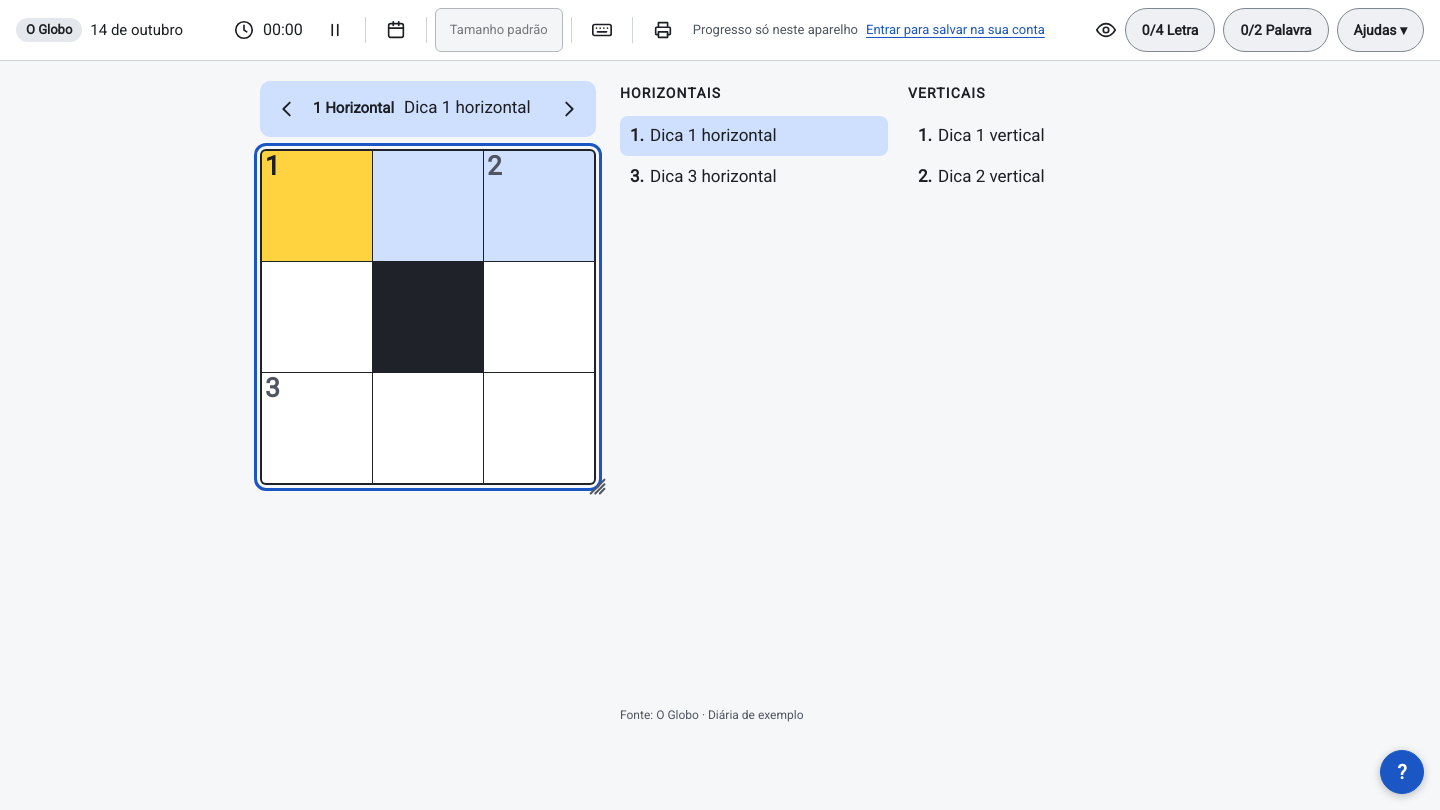
Test: rascunho no jogo (feature 043) › confirmar vira letra normal; reiniciar e concluir não deixam chave de rascunho
The image size is (1440, 810).
Expected: the table is shown, [260,149,596,485]
Click the button "Ajudas ▾" at (1380, 30), box [1337,8,1424,52]
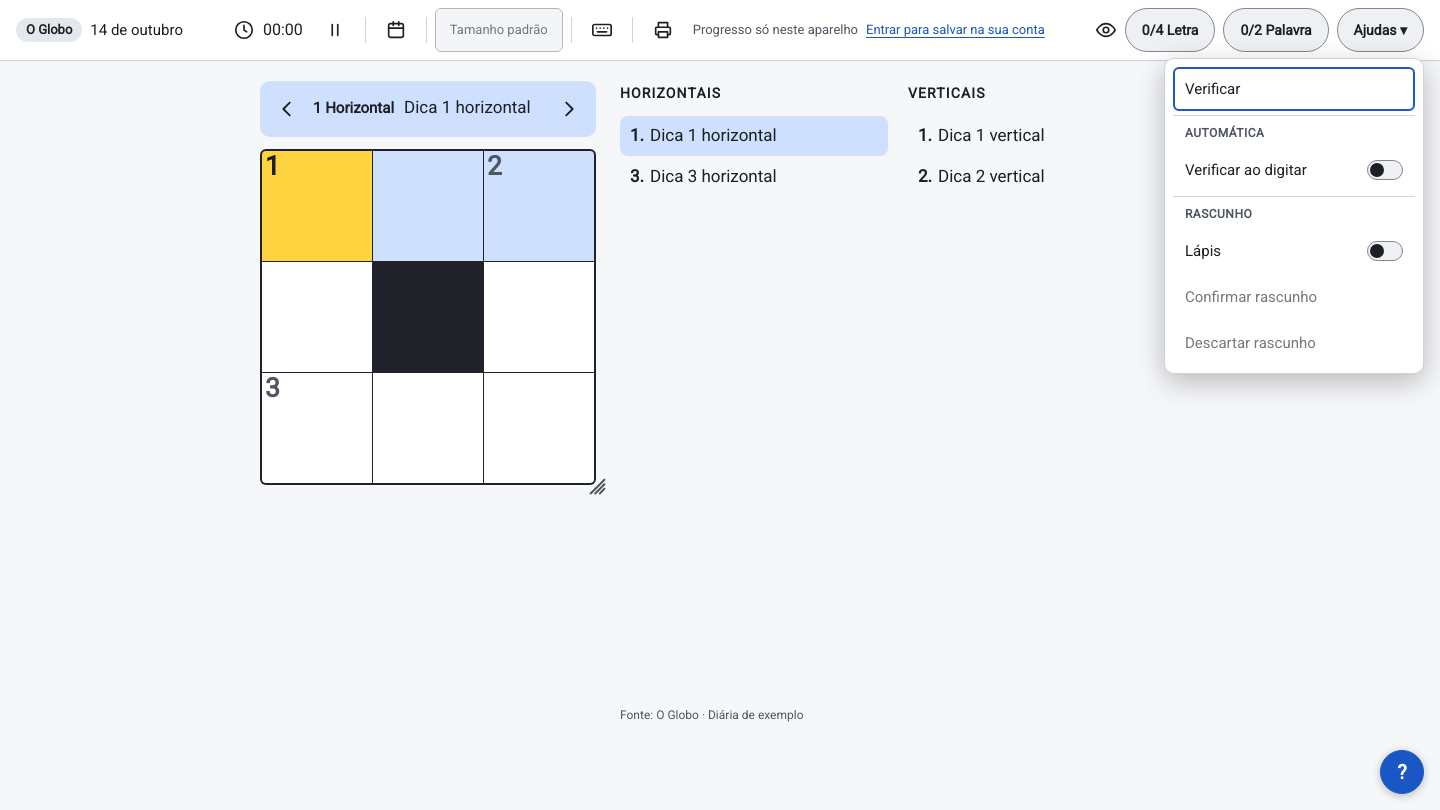
Click the menu item "Lápis" at (1294, 251), box [1173,229,1415,273]
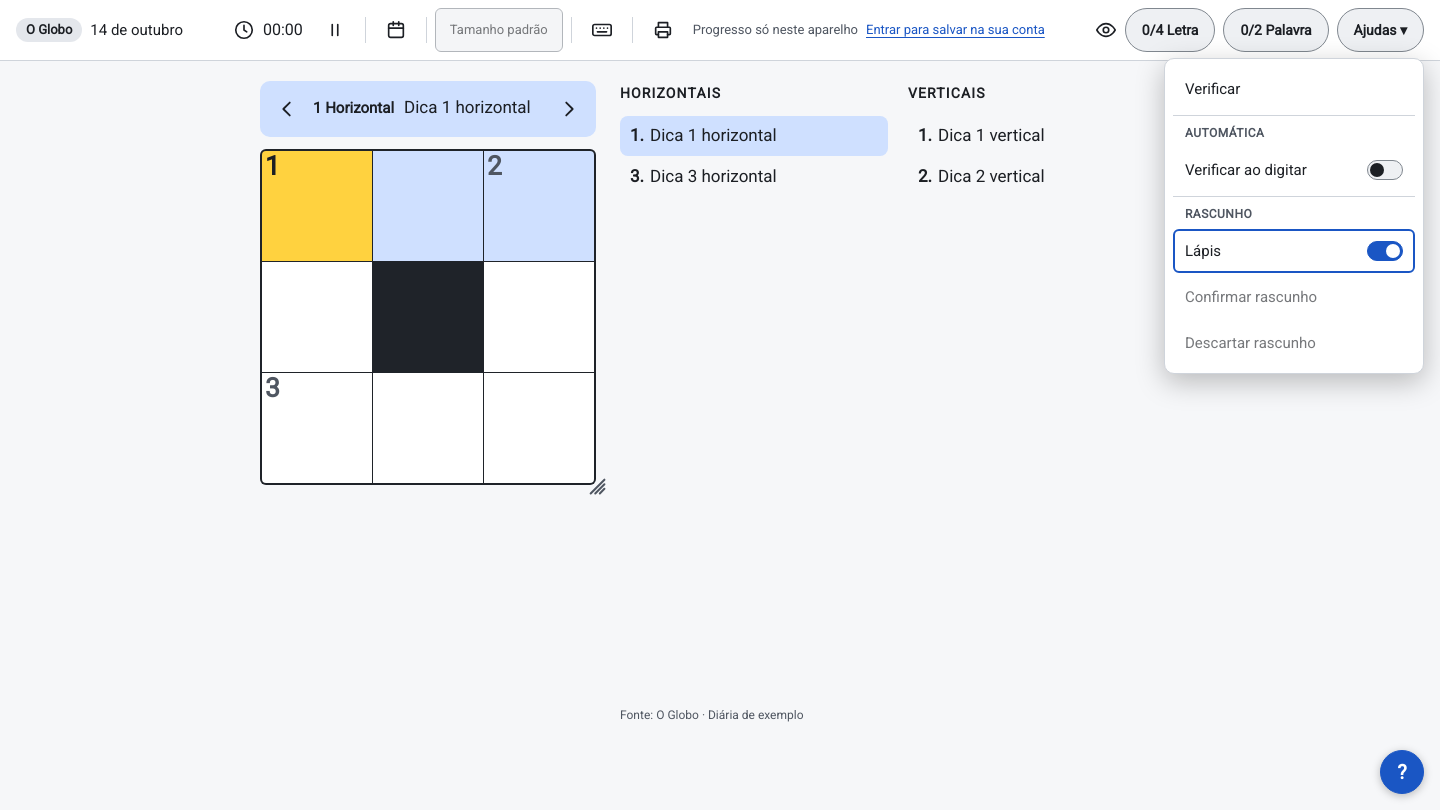
Click the table at (428, 317), box [260,149,596,485]
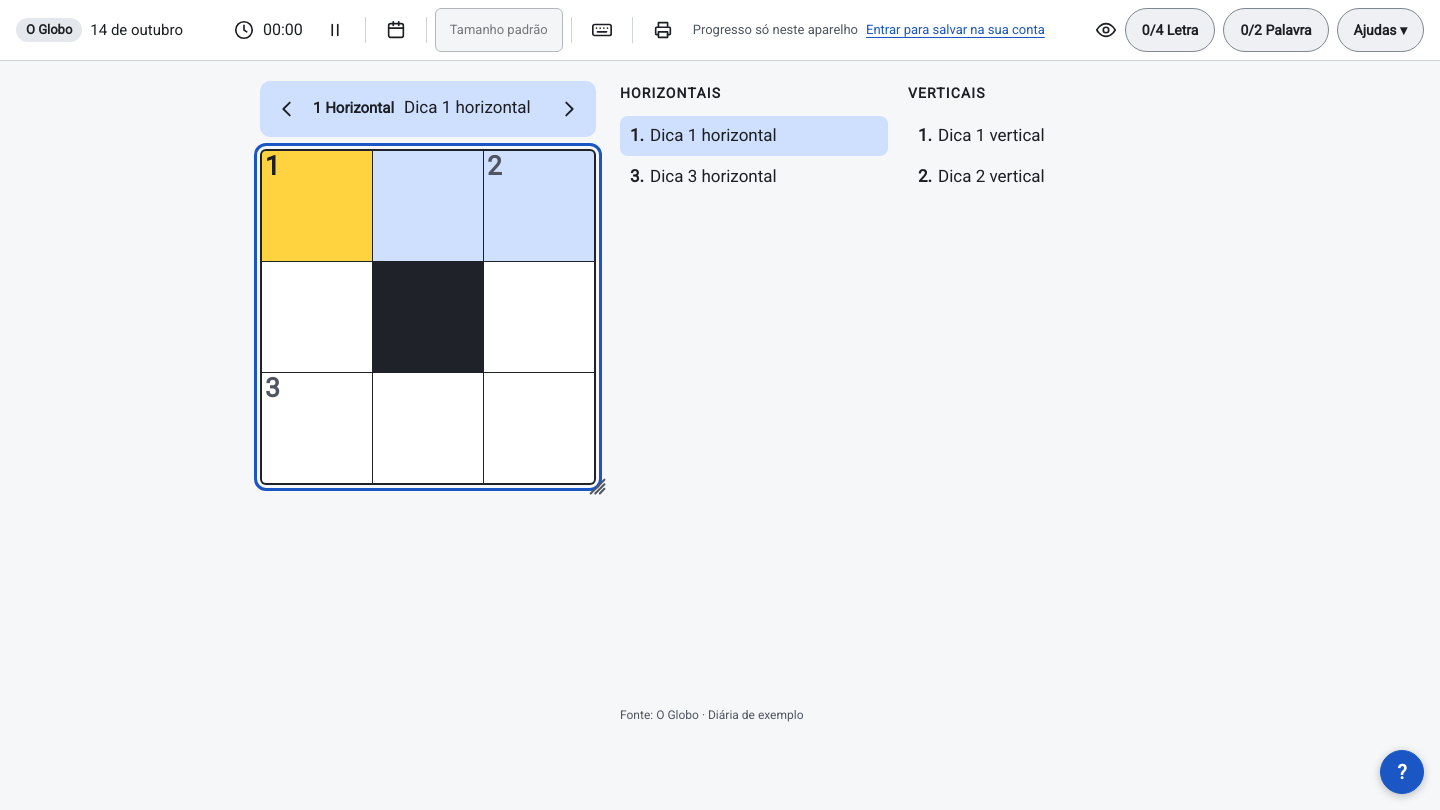
Type keys "CAL"
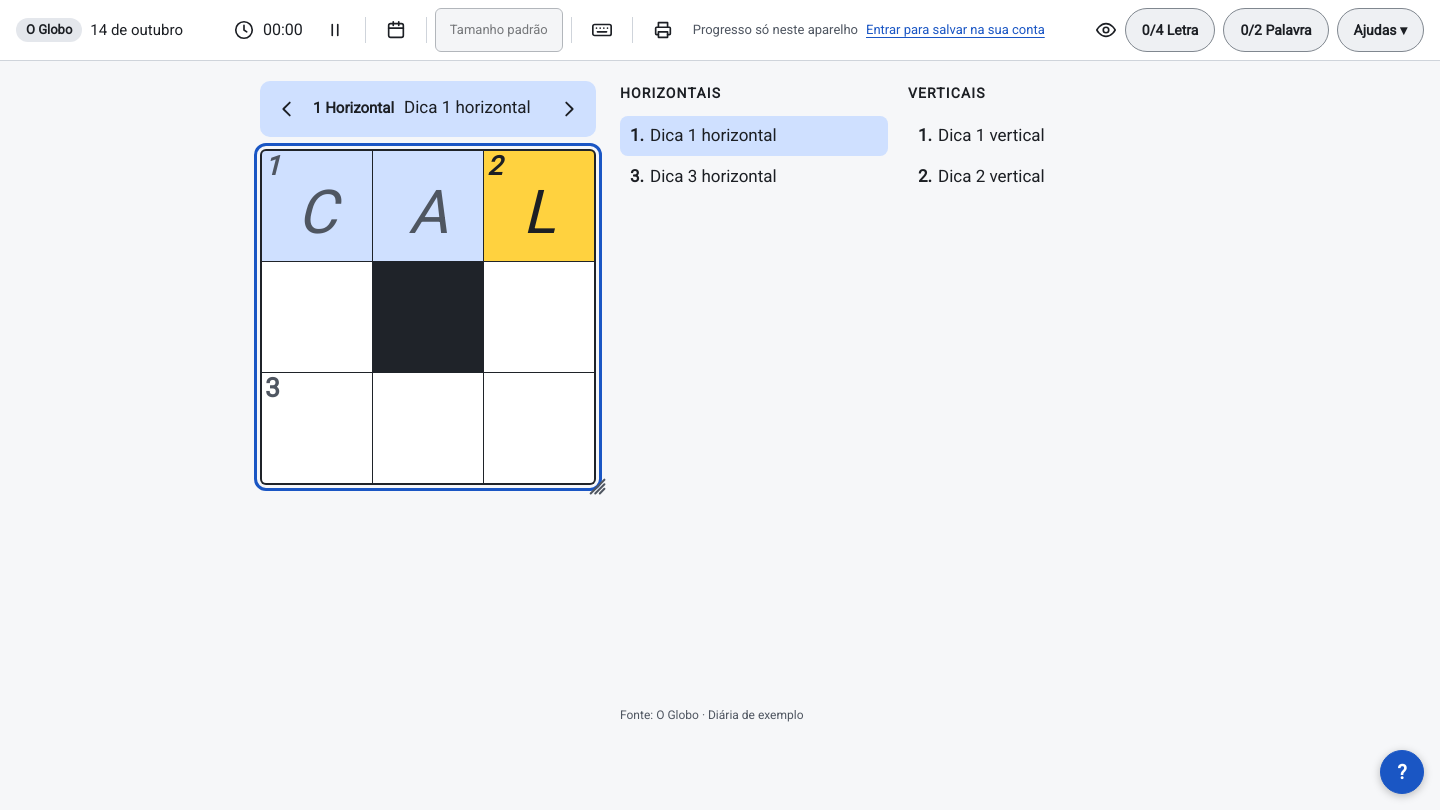
Click the button "Ajudas ▾" at (1380, 30), box [1337,8,1424,52]
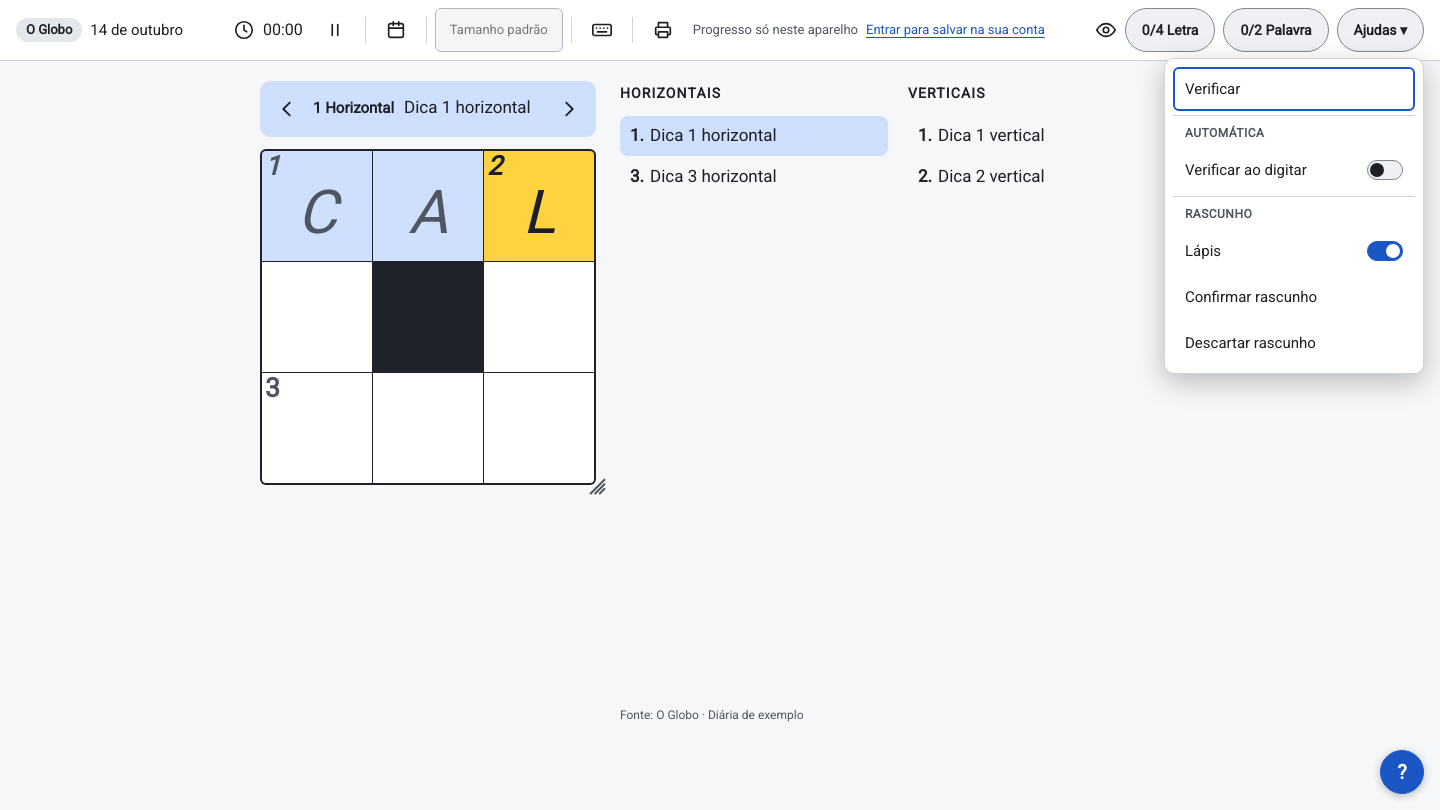
Click the menu item "Confirmar rascunho" at (1294, 297), box [1173,275,1415,319]
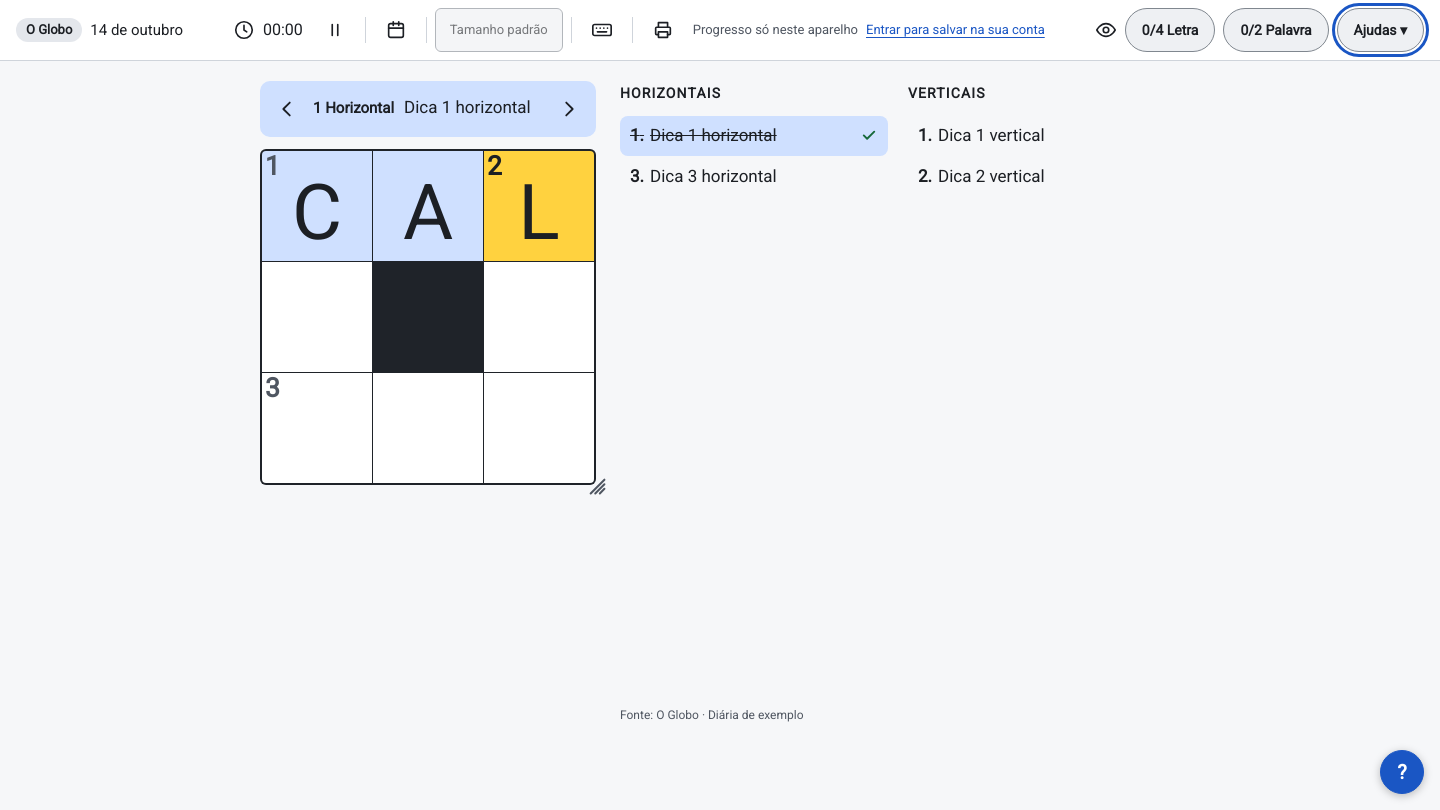
Result: the cell named "Linha 1, coluna 1, letra C" is shown at [262,151,372,261]
